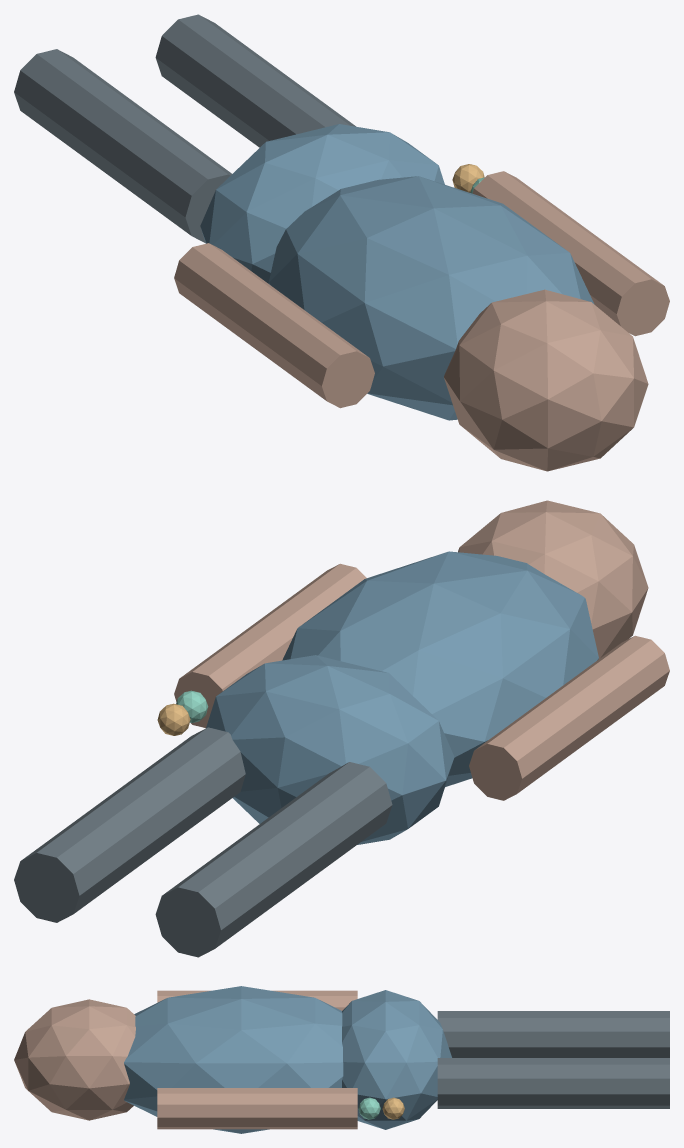
Rendered from patient-vitals-low.glb.
3 renders of one model, top to bottom at view 1: azimuth 30°, elevation 25°; view 2: azimuth 150°, elevation 25°; view 3: azimuth 270°, elevation 25°, orthographic. The views are drawn at different scales.
Visible parts, largest first — view 1: torso, head, left_leg, pelvis, left_arm, right_leg, right_arm; view 2: torso, pelvis, left_leg, right_leg, left_arm, head, right_arm, spo2_site_right_hand, pulse_site_right_wrist; view 3: torso, right_leg, head, pelvis, left_leg, right_arm, left_arm, pulse_site_right_wrist, spo2_site_right_hand.
Boxes of the visible parts, x1=… form: torso: x1=268, y1=176, x2=594, y2=420; head: x1=444, y1=289, x2=648, y2=471; left_leg: x1=14, y1=49, x2=231, y2=242; pelvis: x1=200, y1=124, x2=444, y2=283; left_arm: x1=174, y1=243, x2=374, y2=408; right_leg: x1=155, y1=14, x2=355, y2=147; right_arm: x1=472, y1=171, x2=669, y2=336; torso: x1=282, y1=551, x2=598, y2=786; pelvis: x1=206, y1=655, x2=454, y2=844; left_leg: x1=155, y1=762, x2=392, y2=957; right_leg: x1=14, y1=727, x2=245, y2=922; left_arm: x1=469, y1=635, x2=669, y2=800; head: x1=458, y1=500, x2=648, y2=659; right_arm: x1=174, y1=563, x2=366, y2=727; spo2_site_right_hand: x1=157, y1=703, x2=190, y2=735; pulse_site_right_wrist: x1=176, y1=690, x2=208, y2=722; torso: x1=124, y1=986, x2=343, y2=1133; right_leg: x1=437, y1=1058, x2=669, y2=1108; head: x1=14, y1=999, x2=135, y2=1120; pelvis: x1=342, y1=990, x2=451, y2=1129; left_leg: x1=437, y1=1011, x2=669, y2=1057; right_arm: x1=157, y1=1088, x2=357, y2=1129; left_arm: x1=157, y1=990, x2=357, y2=1010; pulse_site_right_wrist: x1=358, y1=1097, x2=380, y2=1119; spo2_site_right_hand: x1=382, y1=1097, x2=404, y2=1119.
Bounding box in the file's own units: 1.7 × 0.87 × 4.1.
